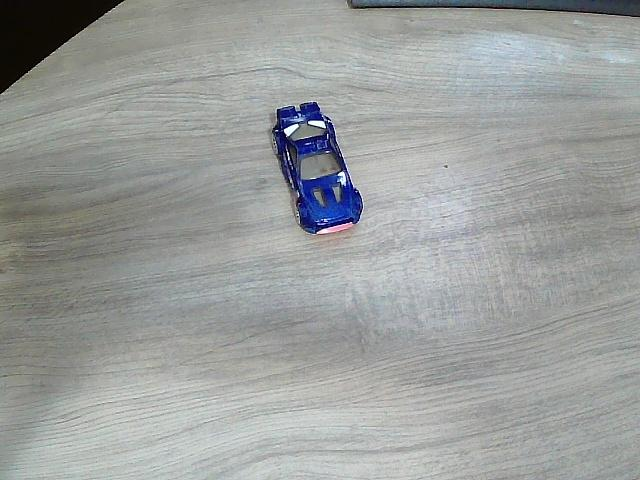Carro: (273, 103, 364, 236)
